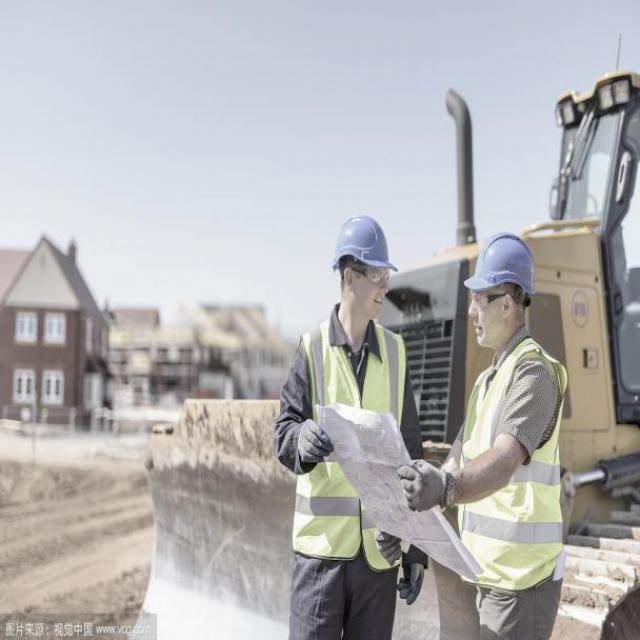gloves: (398, 454, 455, 516), (285, 415, 334, 478), (395, 558, 440, 607), (376, 532, 408, 570)
helmet: (453, 225, 540, 366), (324, 199, 408, 339)
vest: (288, 316, 408, 563), (452, 363, 572, 582)
